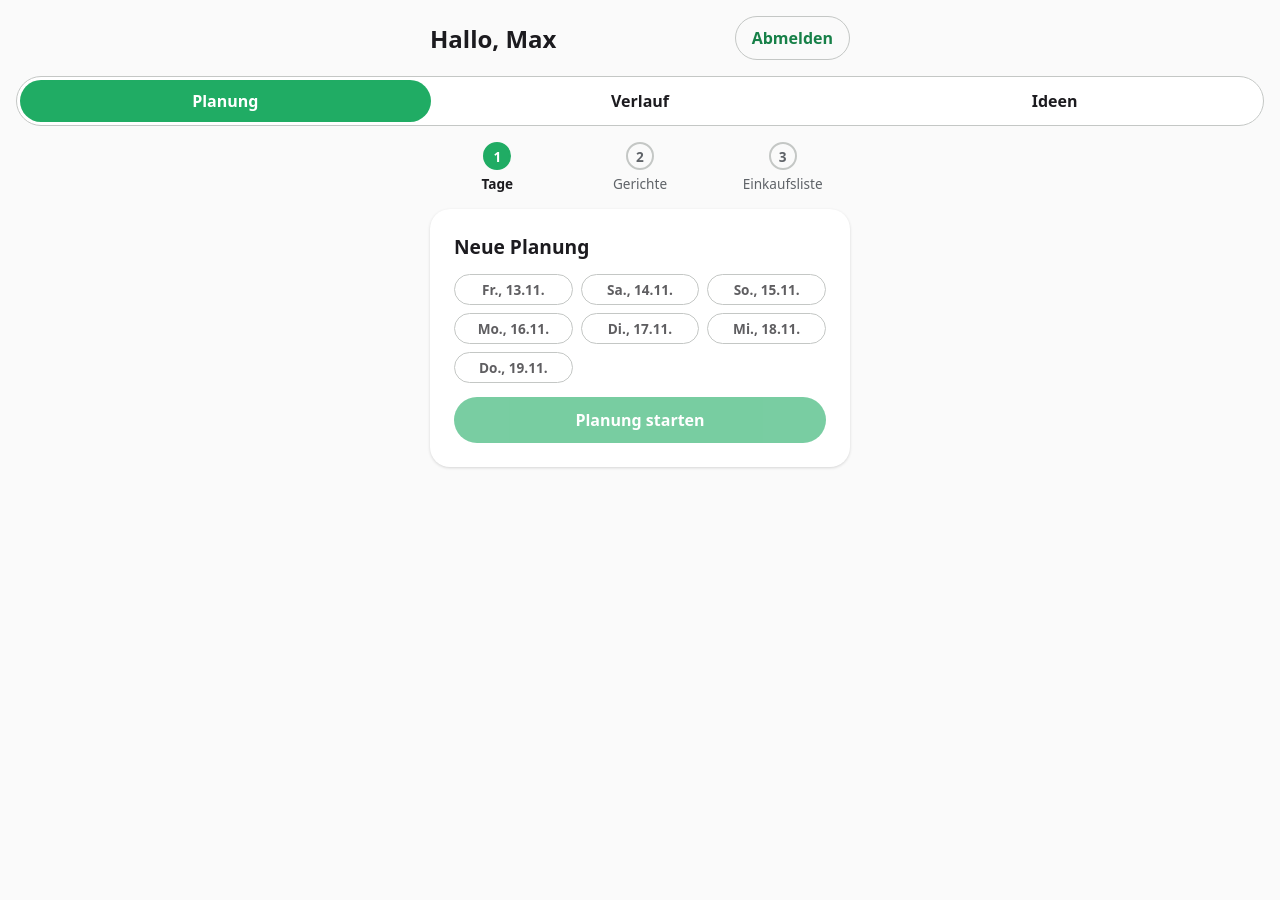
Test: quick add › lets the guessed title be adjusted in the full form before it is saved
Click the button "Ideen".
click(1055, 101)  # box [849,80,1260,122]
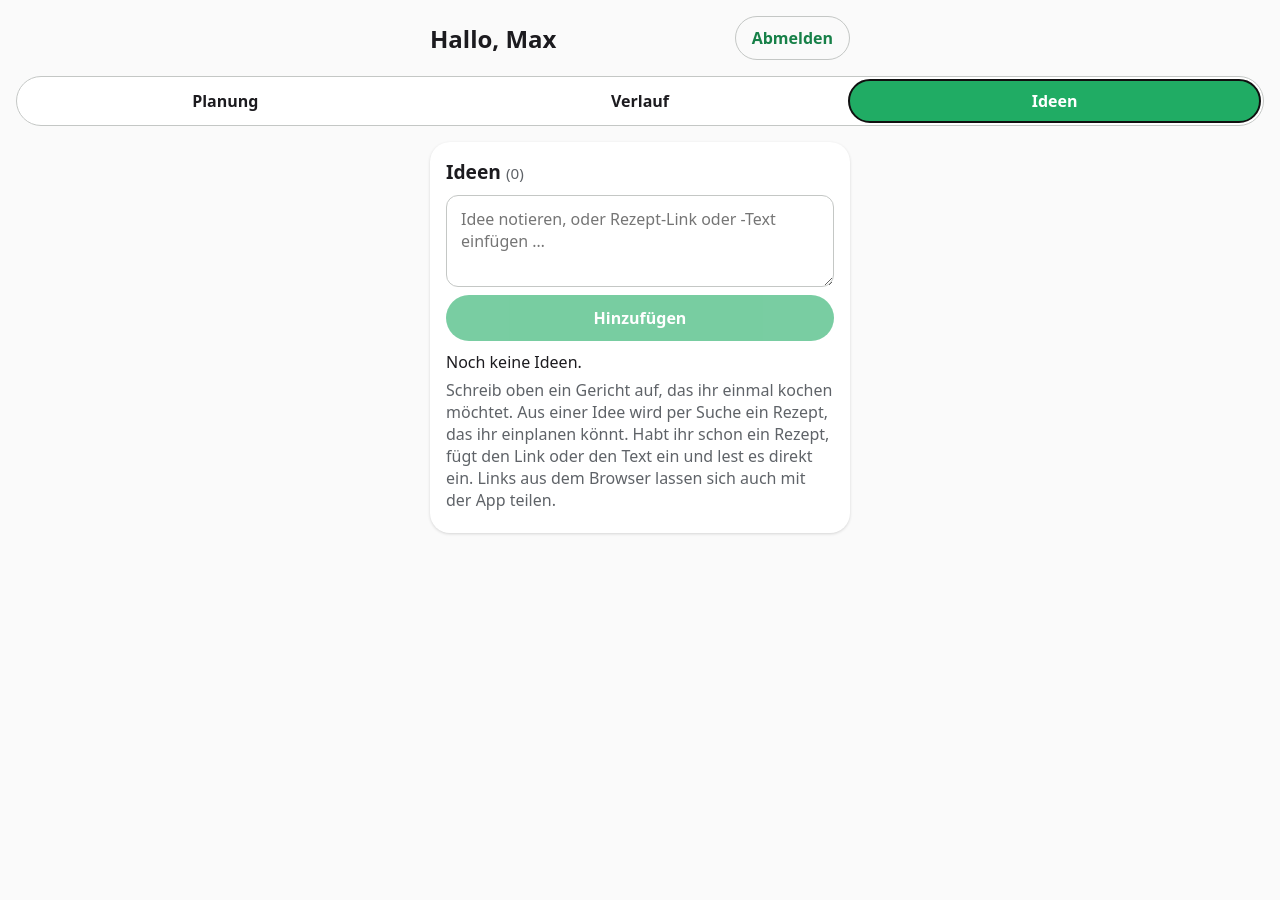
Click the text box named "Neue Idee".
click(640, 241)  # box [446,195,834,287]
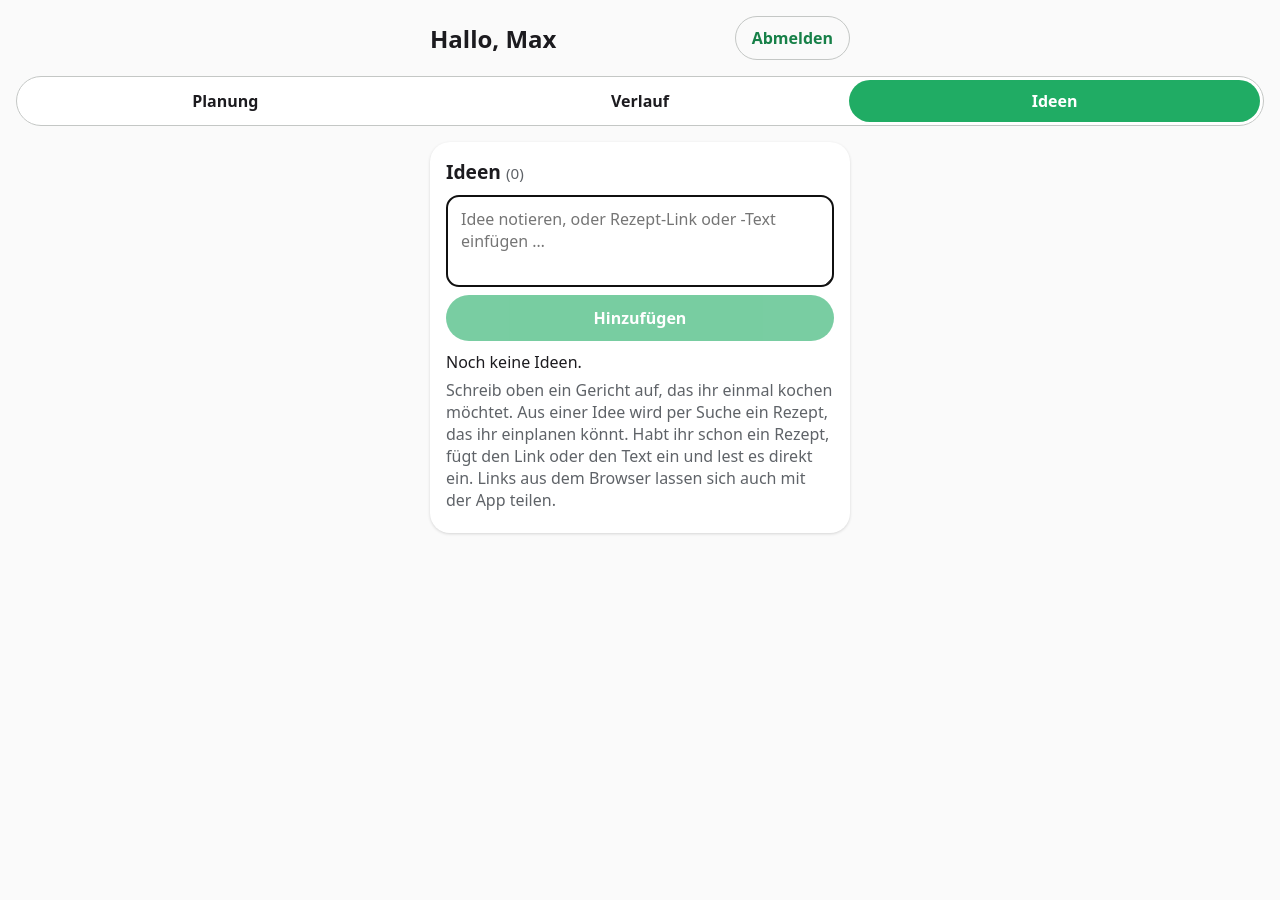
Type keys "https://ex.org/rezept/12345"
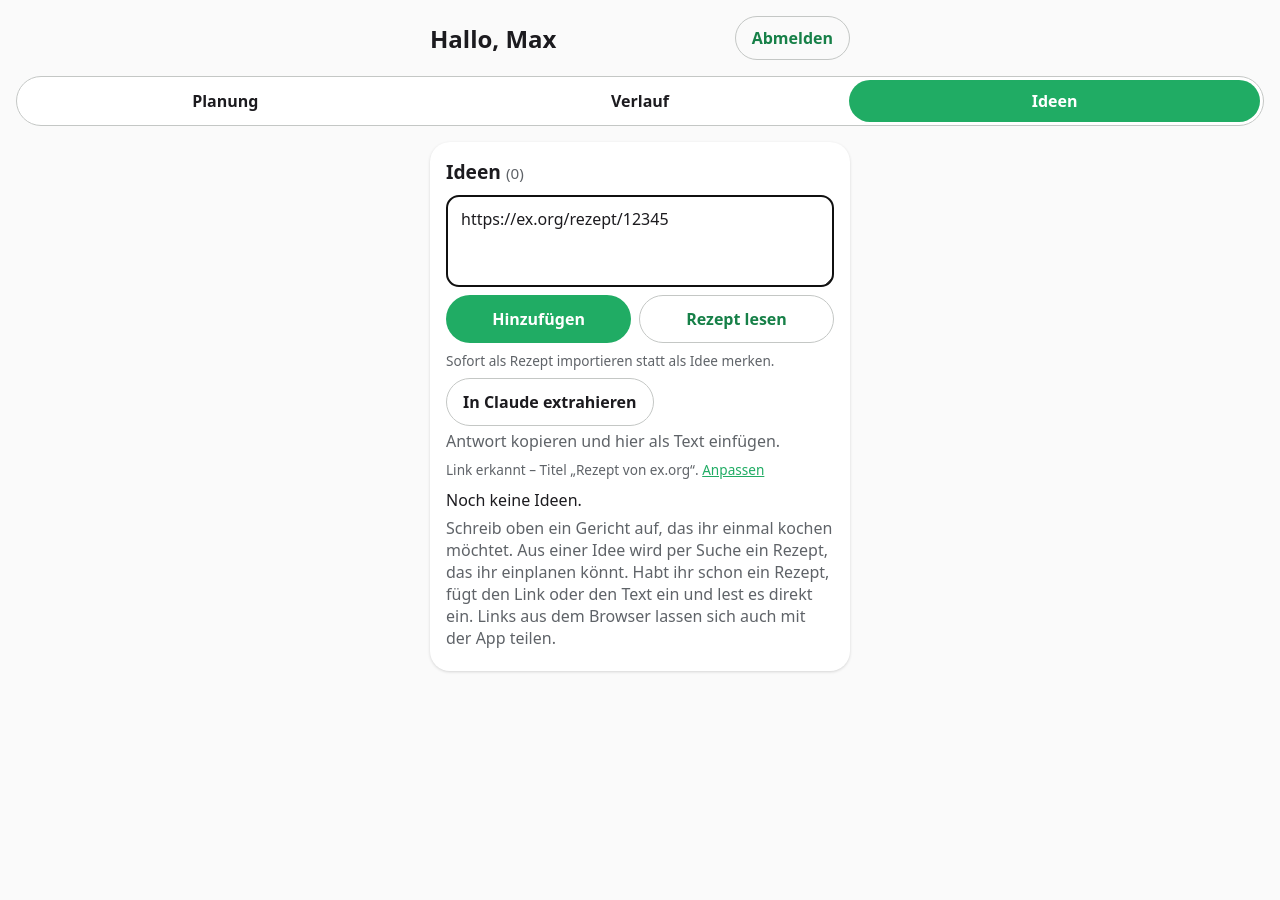
Click the button "Anpassen".
click(733, 470)  # box [702,460,764,479]
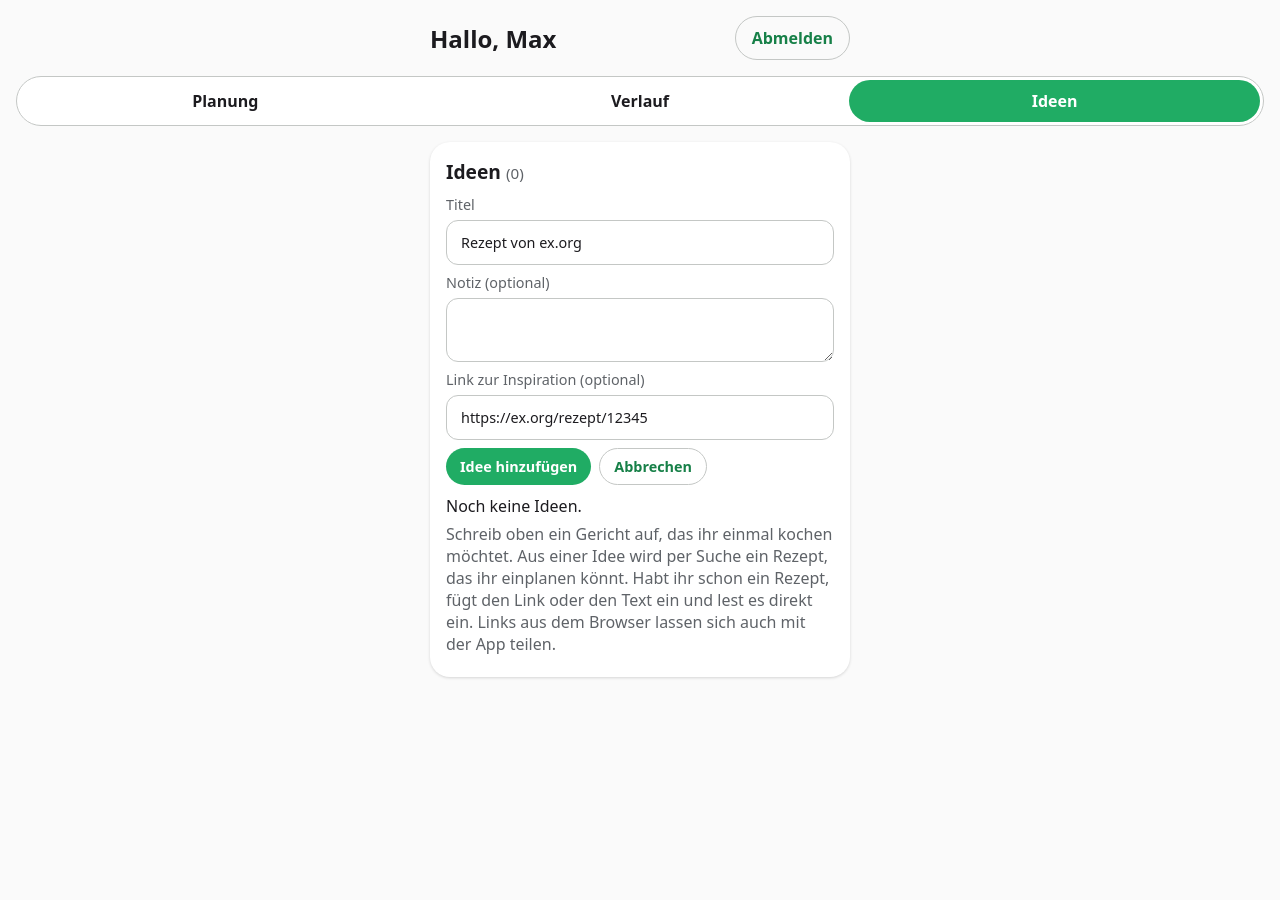
Expected: the field labelled "Titel" holds "Rezept von ex.org", [446,220,834,265]
Expected: the field labelled "Link zur Inspiration (optional)" holds "https://ex.org/rezept/12345", [446,395,834,440]
